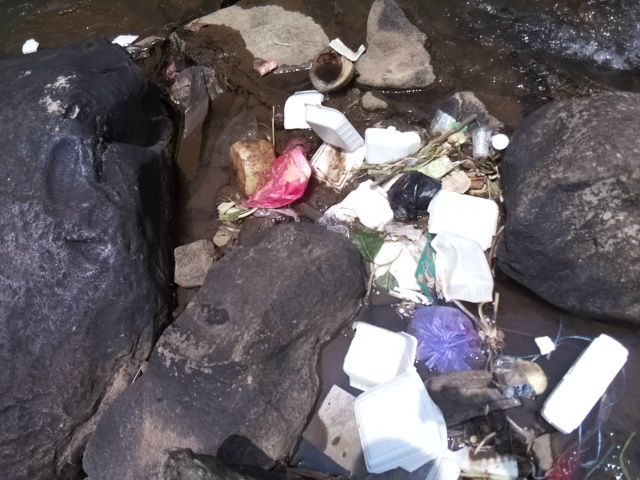Sampah_Plastik: (405, 307, 492, 377), (240, 139, 311, 209), (387, 170, 443, 226), (471, 121, 495, 159)
Sampah_Styrofoam: (342, 366, 449, 473), (541, 332, 635, 438), (425, 188, 506, 306), (342, 318, 425, 396), (302, 100, 370, 194), (326, 180, 395, 235), (361, 124, 423, 163), (282, 88, 324, 132), (328, 35, 367, 60), (111, 31, 139, 47), (22, 36, 38, 55)
